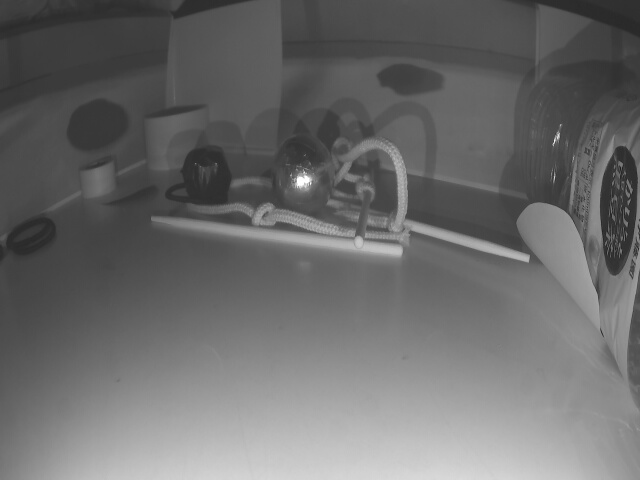Dead: (181, 147, 232, 203)
Live: (272, 133, 333, 217)
